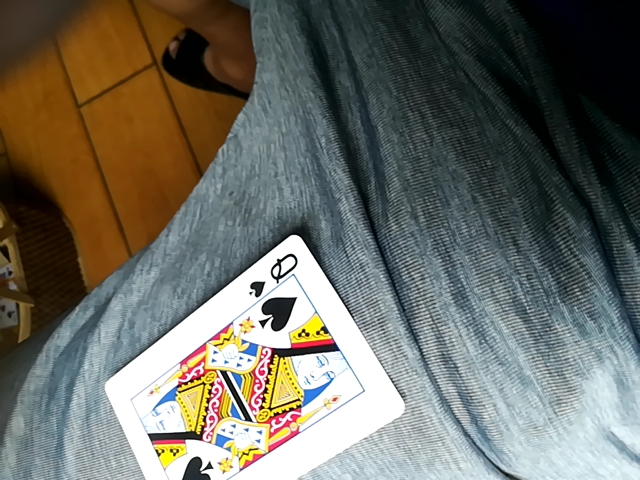ht q: (110, 231, 406, 478)
